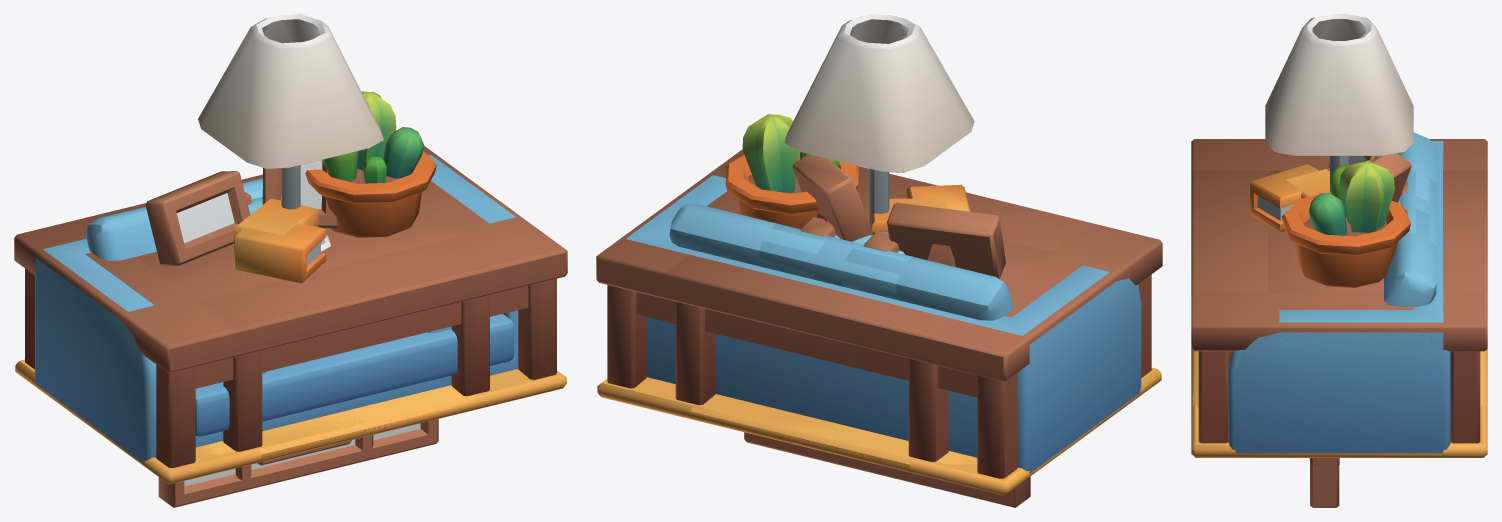
The model's file is furniture.glb.
3 renders of one model, left to right at view 1: azimuth 30°, elevation 25°; view 2: azimuth 150°, elevation 25°; view 3: azimuth 270°, elevation 25°, orthographic. The views are drawn at different scales.
Visible parts, largest first — view 1: table_medium_long, couch, table_medium, lamp_standing, cabinet_medium_decorated, rug_rectangle_A, cabinet_small_decorated, cabinet_medium, rug_oval_A, pictureframe_large_B, armchair, pictureframe_large_A (+1 smaller); view 2: couch, table_medium_long, lamp_standing, table_medium, cabinet_medium_decorated, rug_rectangle_A, cabinet_small_decorated, rug_oval_A, armchair, rug_rectangle_stripes_A, pictureframe_large_B, cabinet_medium (+2 smaller); view 3: couch, table_medium_long, lamp_standing, table_medium, cabinet_medium_decorated, cabinet_small_decorated, rug_rectangle_A, cabinet_medium, pictureframe_large_B, armchair, rug_oval_A.
Part boxes in pixels (left/top/right/bottom): table_medium_long: left=14, top=146, right=567, bottom=467; couch: left=35, top=154, right=518, bottom=462; table_medium: left=84, top=174, right=499, bottom=451; lamp_standing: left=198, top=14, right=383, bottom=209; cabinet_medium_decorated: left=145, top=91, right=436, bottom=266; rug_rectangle_A: left=15, top=359, right=566, bottom=484; cabinet_small_decorated: left=234, top=160, right=339, bottom=283; cabinet_medium: left=138, top=208, right=458, bottom=300; rug_oval_A: left=73, top=385, right=483, bottom=462; pictureframe_large_B: left=158, top=419, right=438, bottom=507; armchair: left=242, top=178, right=451, bottom=431; pictureframe_large_A: left=235, top=435, right=373, bottom=489; couch: left=626, top=175, right=1141, bottom=473; table_medium_long: left=596, top=149, right=1162, bottom=478; lamp_standing: left=784, top=14, right=974, bottom=233; table_medium: left=666, top=166, right=1090, bottom=461; cabinet_medium_decorated: left=725, top=114, right=1005, bottom=279; rug_rectangle_A: left=597, top=367, right=1161, bottom=495; cabinet_small_decorated: left=792, top=155, right=970, bottom=241; rug_oval_A: left=645, top=377, right=1108, bottom=469; armchair: left=759, top=223, right=912, bottom=294; rug_rectangle_stripes_A: left=602, top=368, right=1156, bottom=480; pictureframe_large_B: left=744, top=432, right=1030, bottom=507; cabinet_medium: left=1000, top=240, right=1050, bottom=284; couch: left=1228, top=132, right=1450, bottom=453; table_medium_long: left=1191, top=139, right=1487, bottom=443; lamp_standing: left=1265, top=14, right=1413, bottom=191; table_medium: left=1191, top=170, right=1487, bottom=295; cabinet_medium_decorated: left=1281, top=156, right=1410, bottom=287; cabinet_small_decorated: left=1250, top=153, right=1411, bottom=231; rug_rectangle_A: left=1191, top=349, right=1487, bottom=457; cabinet_medium: left=1268, top=170, right=1383, bottom=292; pictureframe_large_B: left=1310, top=458, right=1339, bottom=507; armchair: left=1400, top=170, right=1436, bottom=246; rug_oval_A: left=1192, top=350, right=1486, bottom=457.
Size of the model in its own units: 3 by 3.12 by 2.
1 material, 1 textured.
